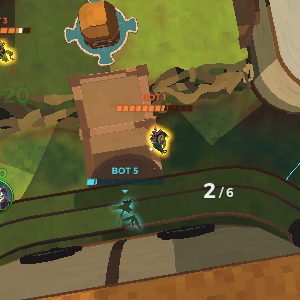model: (146, 122, 170, 154), (1, 36, 15, 65)
